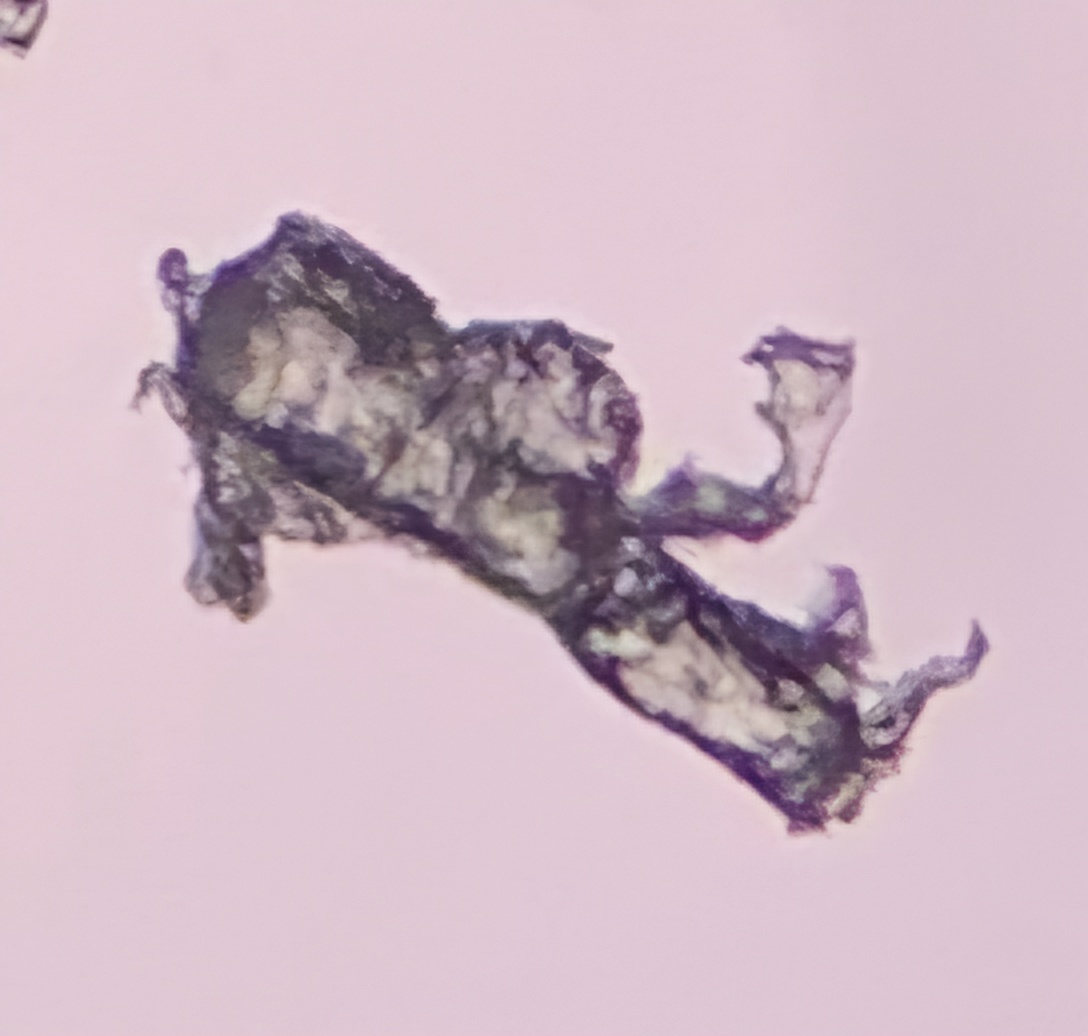microplastic: (118, 197, 1011, 851)
